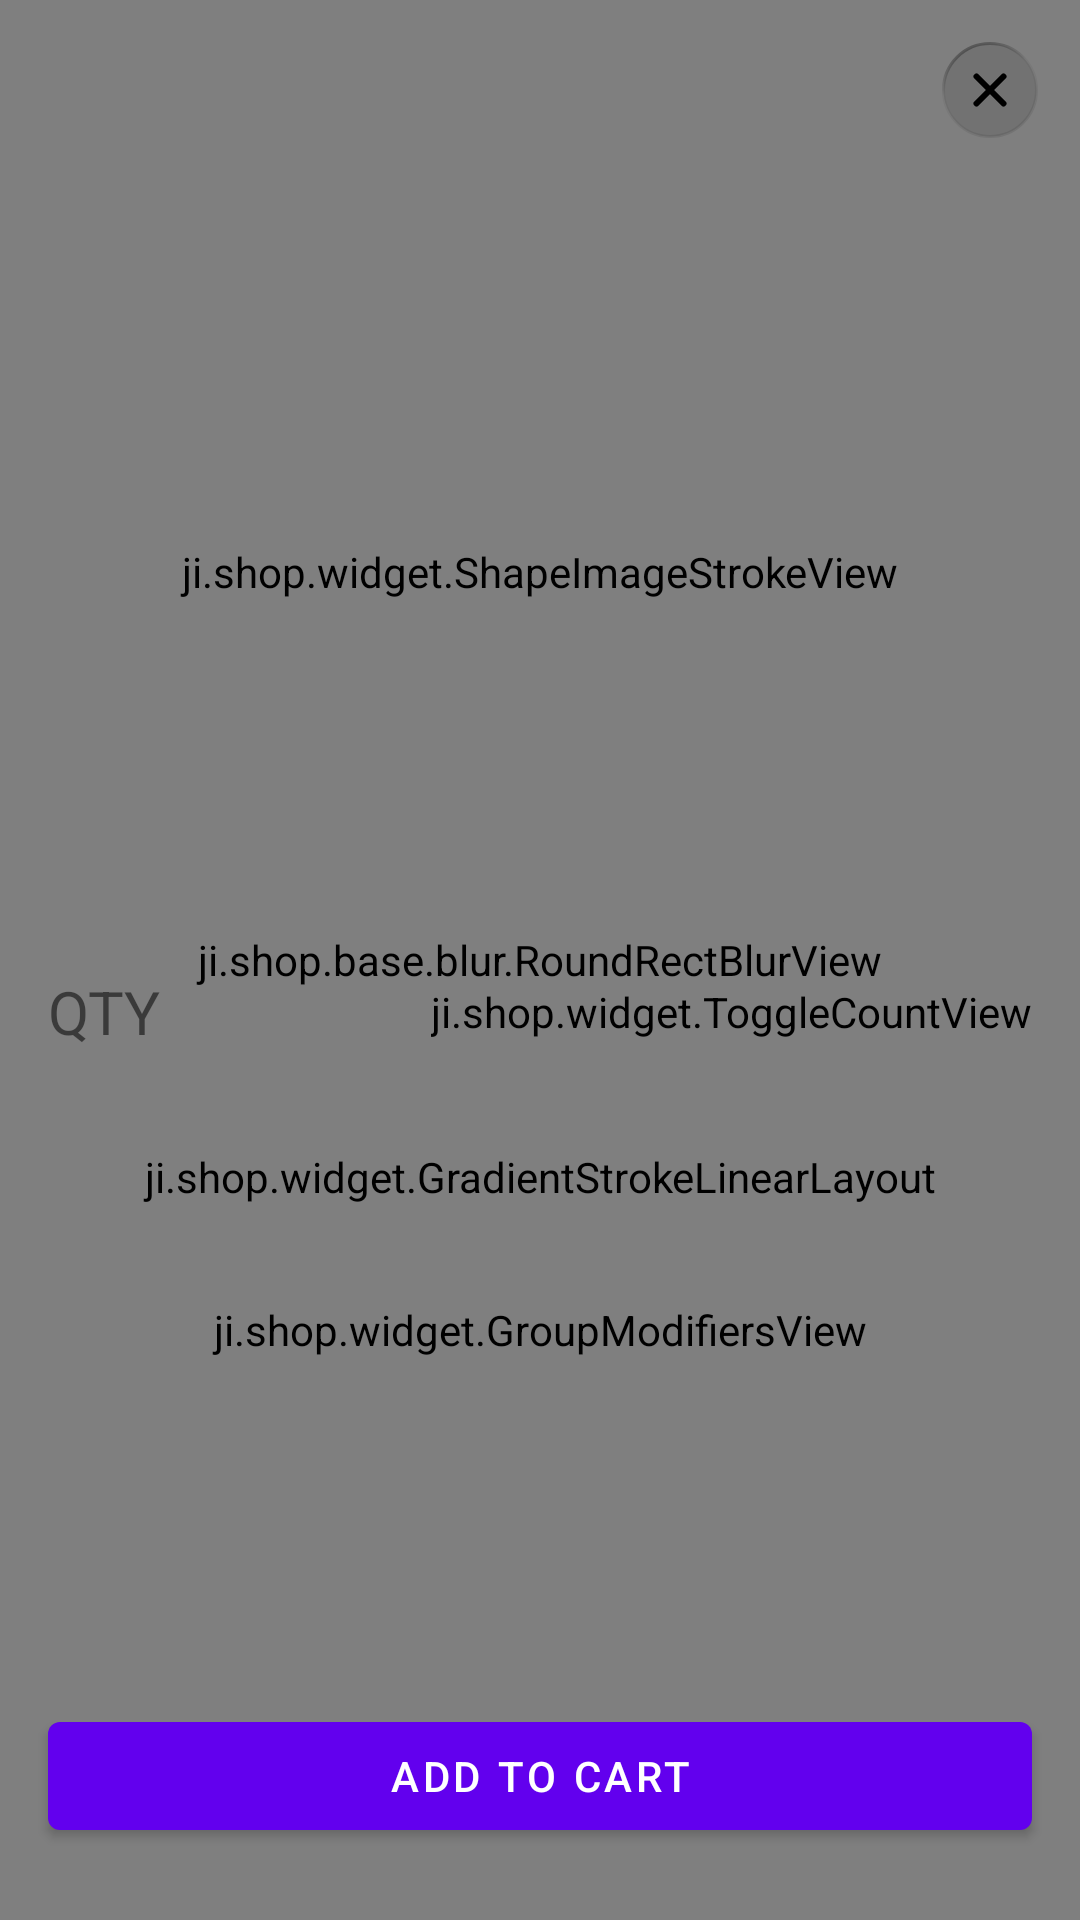

Screen size 1080*1920. Icon name, then its center in pixels as point (x, y):
close: point (989, 90)
